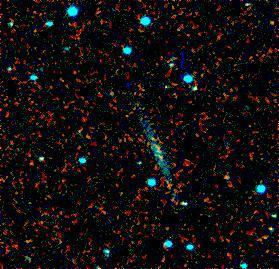star: (255, 12, 279, 42)
